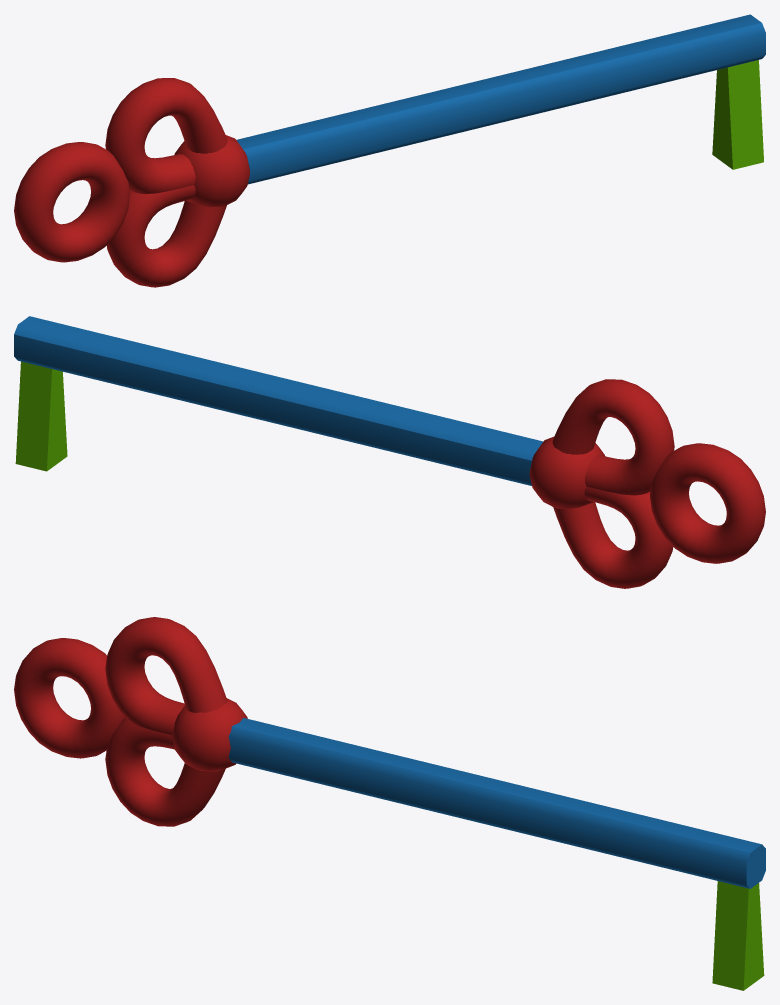
File: key_low.fbx
The picture shows the model from 3 angles, top to bottom: view 1: azimuth 30°, elevation 25°; view 2: azimuth 150°, elevation 25°; view 3: azimuth 330°, elevation 25°; orthographic projection.
Parts seen in each view (by area): view 1: top_low, body_low, bottom_low; view 2: top_low, body_low, bottom_low; view 3: top_low, body_low, bottom_low.
Boxes of the visible parts, x1,y1,x2,y2 form: top_low: (14,78,249,287); body_low: (236,14,765,184); bottom_low: (712,60,763,169); top_low: (529,379,765,588); body_low: (14,316,543,485); bottom_low: (15,361,67,471); top_low: (14,617,247,826); body_low: (228,718,765,888); bottom_low: (712,881,764,990).
Bounding box in the file's own units: 19.25 × 5.45 × 1.81.
